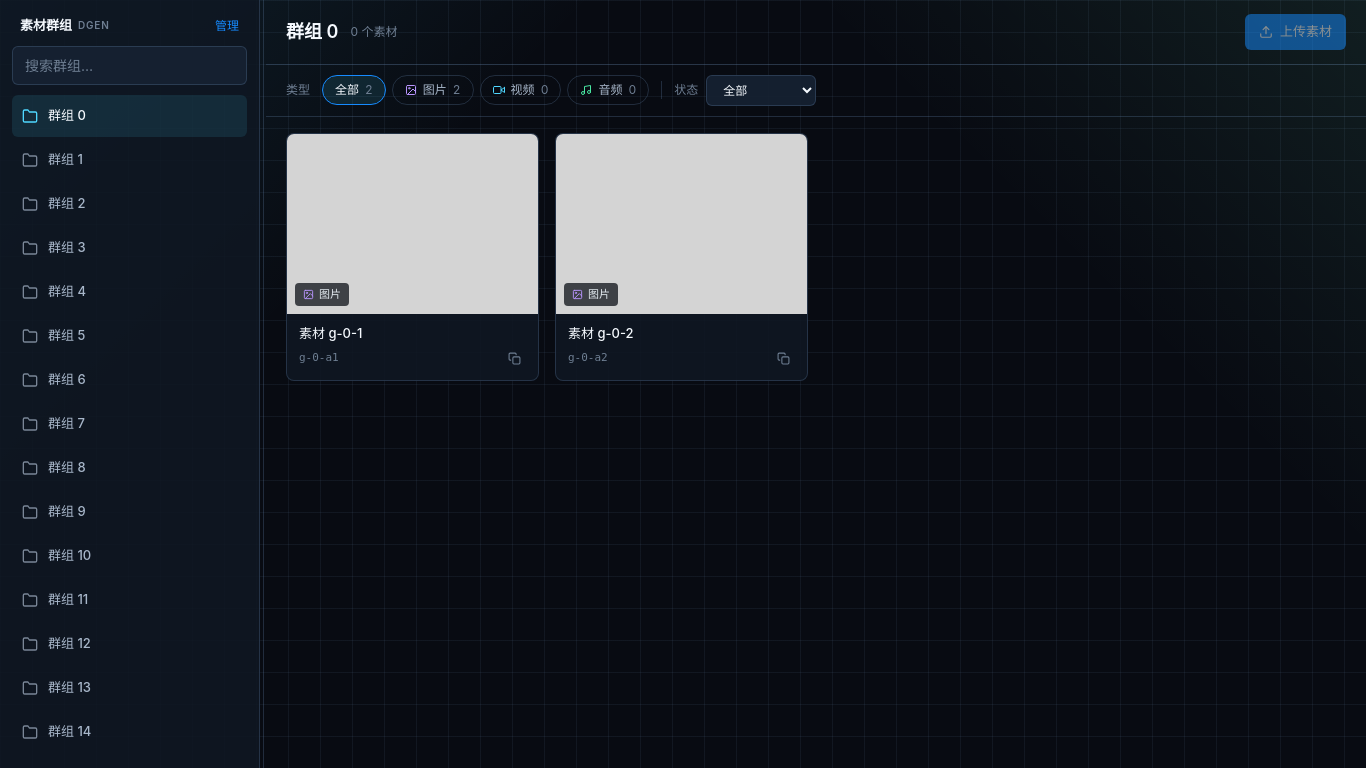
Test: server-side group search (>1000 groups) › a failed reload behind a zero-result search still keeps the sidebar
Expected: the element with test id "group-row-g-0" is shown, left=12, top=94, right=247, bottom=136
Type "没有这种群组" into the search field labelled "搜索群组" at (130, 65), box left=12, top=46, right=247, bottom=84
Wait 320 ms
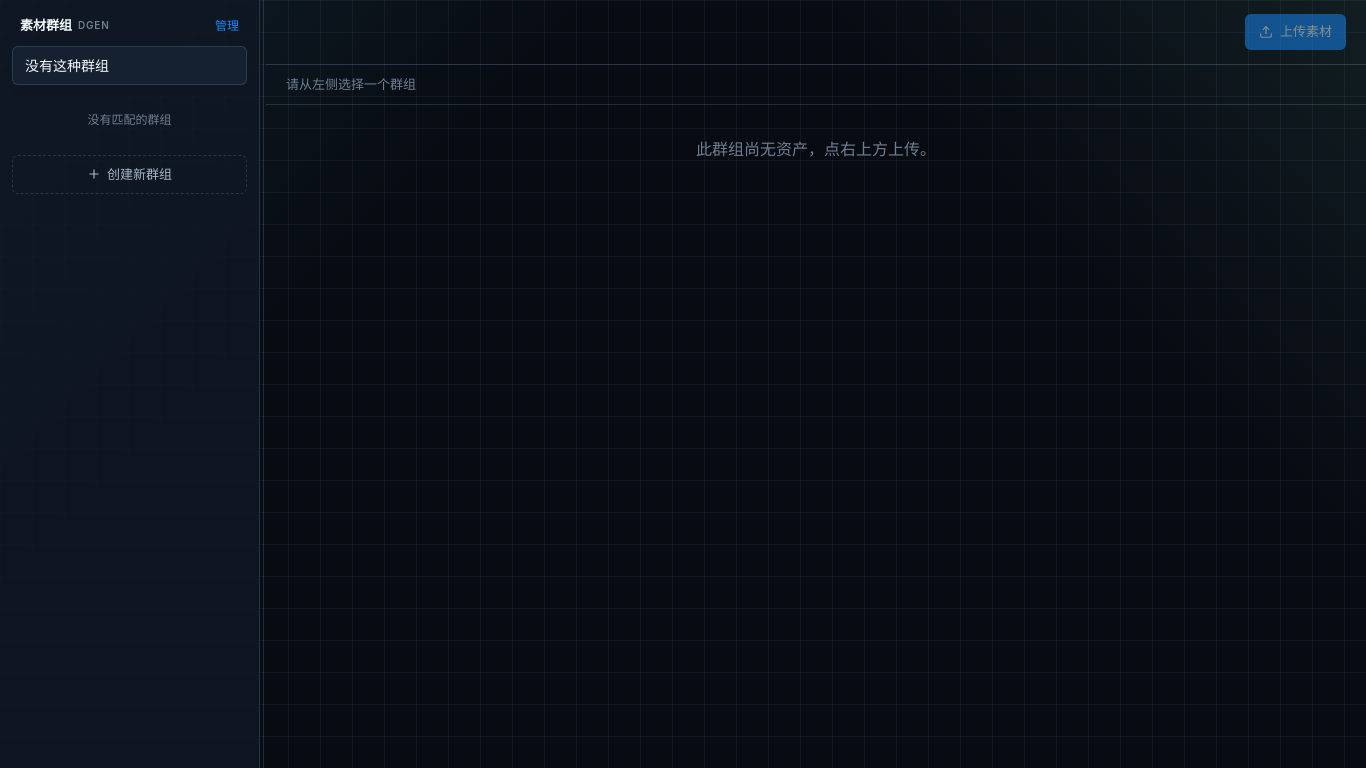
Now the text "没有匹配的群组" is shown, box left=88, top=112, right=172, bottom=126
Clear the search field named "搜索群组" at (130, 65), box left=12, top=46, right=247, bottom=84
Wait 320 ms
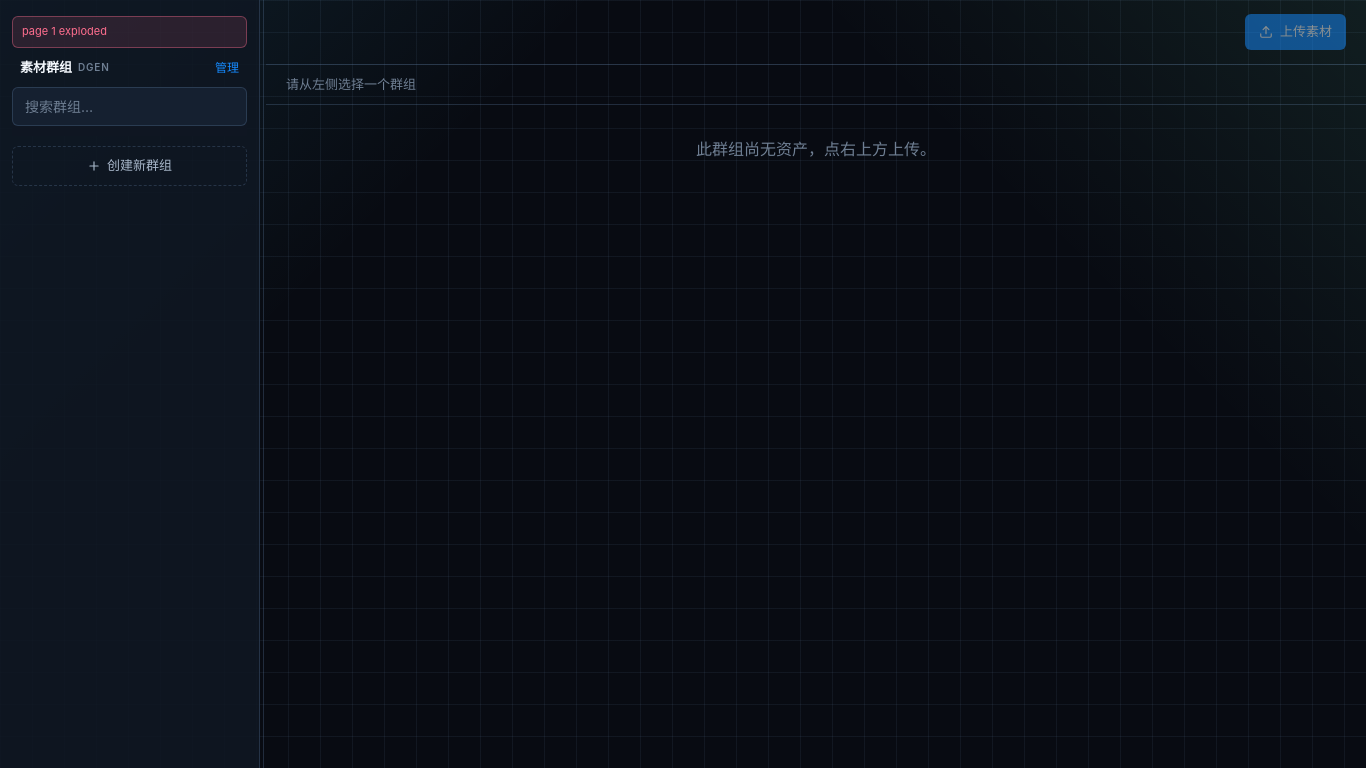
Expected: the element showing "page 1 exploded 素材群组 DGEN 管理 创建新群组" is shown, left=0, top=0, right=260, bottom=767
Now the text "page 1 exploded" is shown, box left=12, top=16, right=247, bottom=48
Now the message reads "page 1 exploded", box left=22, top=24, right=107, bottom=38
